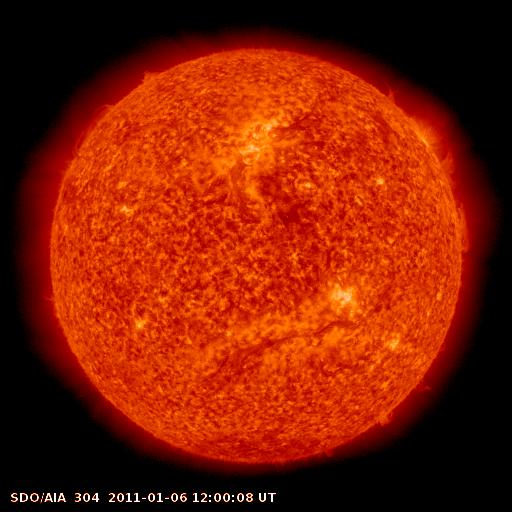prominence: (367, 360, 444, 435), (72, 101, 119, 158), (443, 198, 481, 268), (436, 135, 463, 183), (372, 69, 400, 106), (140, 65, 164, 89)
